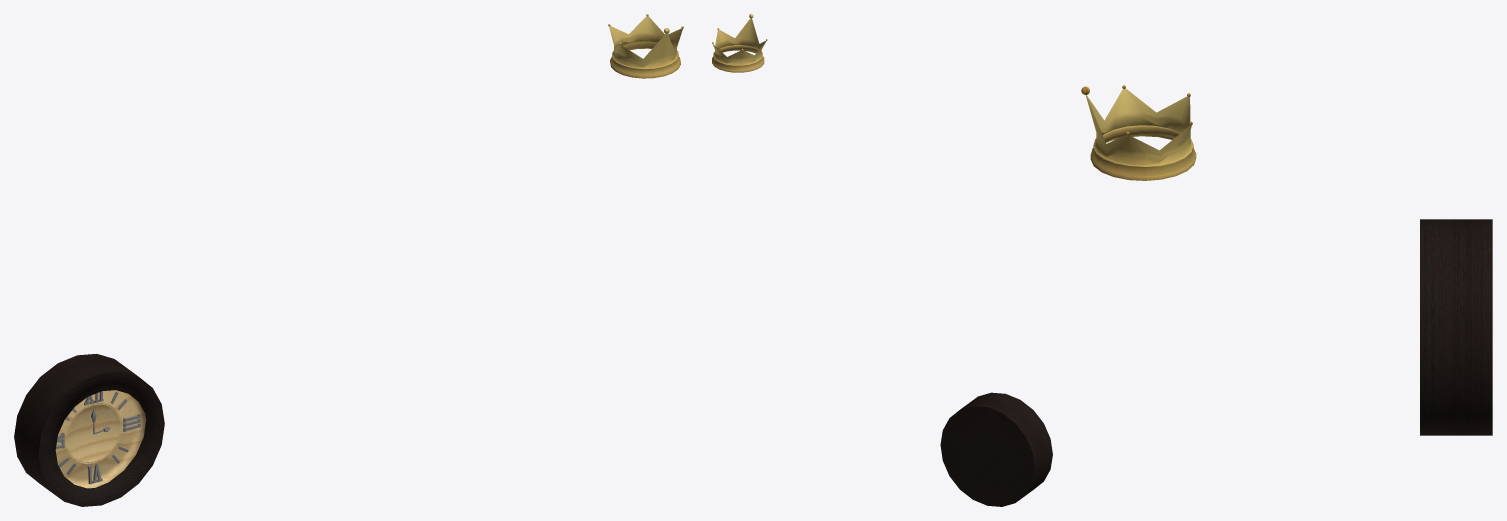
Rendered from P3_Reloj.0001.obj.
3 views of the same model, side by side, from view 1: azimuth 30°, elevation 25°; view 2: azimuth 150°, elevation 25°; view 3: azimuth 270°, elevation 25° (orthographic). The views are drawn at different scales.
Visible parts, largest first — view 1: polySurface8; view 2: polySurface8; view 3: polySurface8.
Part boxes in pixels (box(x1,y1,x2,y2)): polySurface8: box(14, 14, 683, 506); polySurface8: box(712, 14, 1052, 506); polySurface8: box(1081, 85, 1492, 435).
Size of the model in its own units: 37.47 by 29.34 by 16.34.
Materials: 5 (4 with a texture image).
